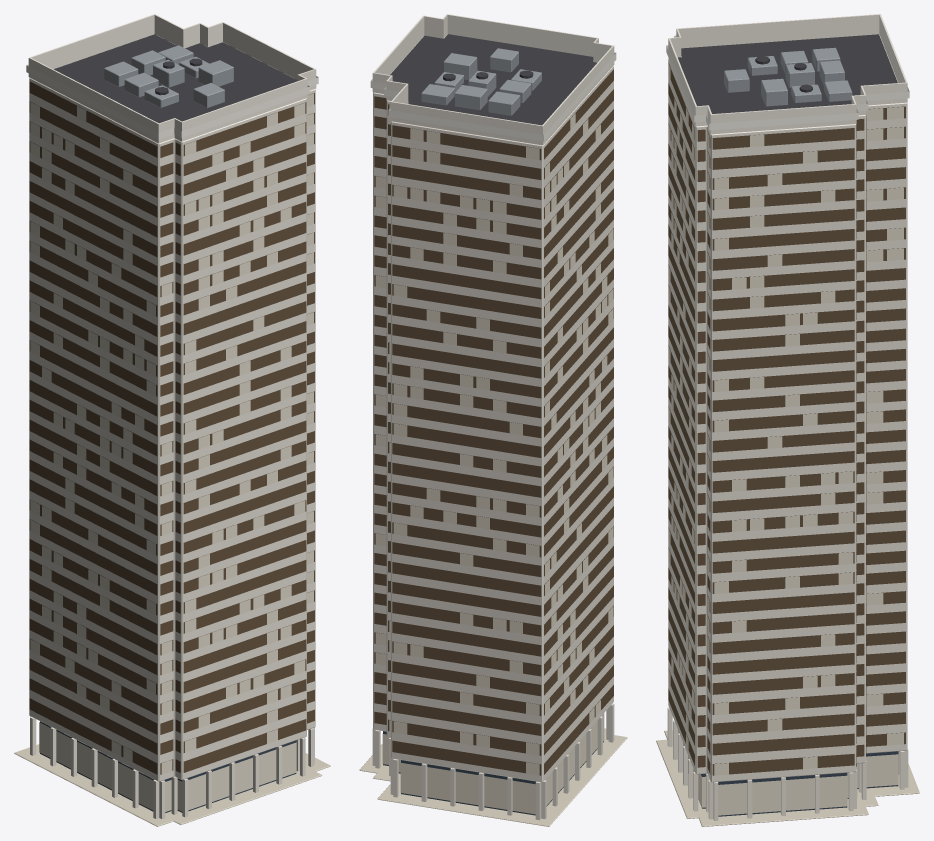
File: 100-pine-center.glb
3 renders of one model, left to right at view 1: azimuth 30°, elevation 25°; view 2: azimuth 150°, elevation 25°; view 3: azimuth 270°, elevation 25°, orthographic.
Parts seen in each view (by area): view 1: 100-pine-center_body, 100-pine-center_night_glow; view 2: 100-pine-center_body, 100-pine-center_night_glow; view 3: 100-pine-center_body, 100-pine-center_night_glow.
Boxes of the visible parts, bbox=[...] form: 100-pine-center_body: bbox=[14, 14, 330, 826]; 100-pine-center_night_glow: bbox=[26, 64, 318, 811]; 100-pine-center_body: bbox=[359, 14, 627, 826]; 100-pine-center_night_glow: bbox=[370, 52, 616, 814]; 100-pine-center_body: bbox=[656, 14, 919, 826]; 100-pine-center_night_glow: bbox=[666, 35, 909, 815].
Bounding box in the file's own units: 48.98 × 145 × 49.06.
